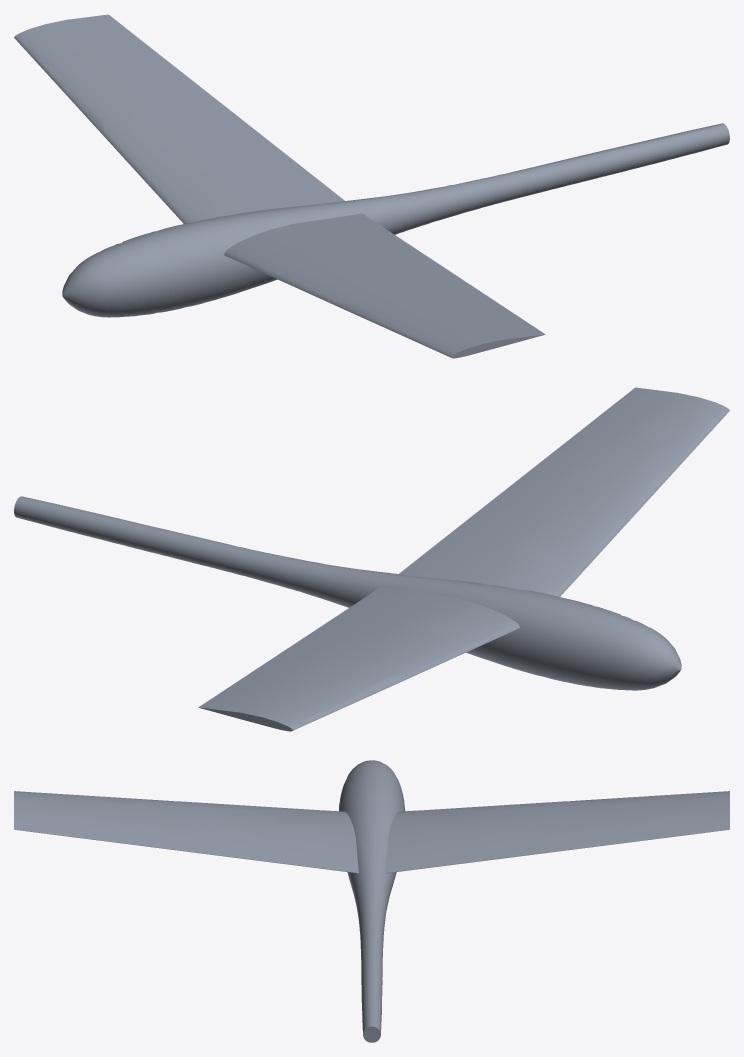
File: step-2-preview-1.glb
The picture shows the model from 3 angles, top to bottom: view 1: azimuth 30°, elevation 25°; view 2: azimuth 150°, elevation 25°; view 3: azimuth 270°, elevation 25°; orthographic projection. The views are drawn at different scales.
Visible parts, largest first — view 1: preview_6, preview_4, preview_0, preview_2; view 2: preview_0, preview_4, preview_6, preview_9; view 3: preview_0, preview_6, preview_4.
Part boxes in pixels (box(x1,y1,x2,y2)): preview_6: box(14, 14, 344, 223); preview_4: box(62, 123, 729, 317); preview_0: box(224, 213, 544, 357); preview_2: box(451, 334, 545, 358); preview_0: box(399, 387, 729, 596); preview_4: box(14, 496, 681, 690); preview_6: box(199, 586, 519, 730); preview_9: box(198, 707, 292, 731); preview_0: box(14, 791, 358, 872); preview_6: box(385, 791, 729, 872); preview_4: box(339, 760, 405, 1033).
Bounding box in the file's own units: 0.14 × 0.0201 × 0.16.
